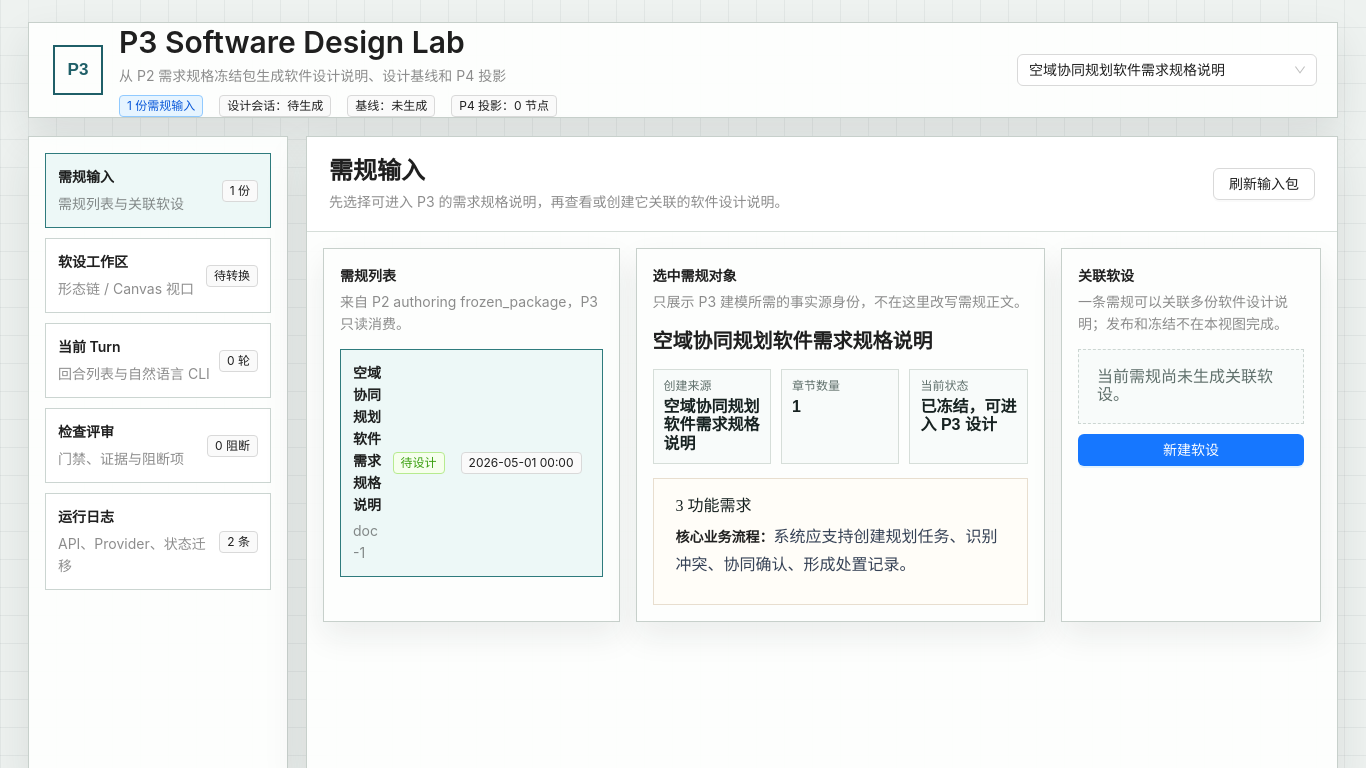
Test: renders structured software design subsections, tables, and diagrams from converter output
The image size is (1366, 768).
Expected: the heading "P3 Software Design Lab" is shown, [119,24,465,60]
Click the button "新建软设" at x=1191, y=450, box [1078,434,1304,466]
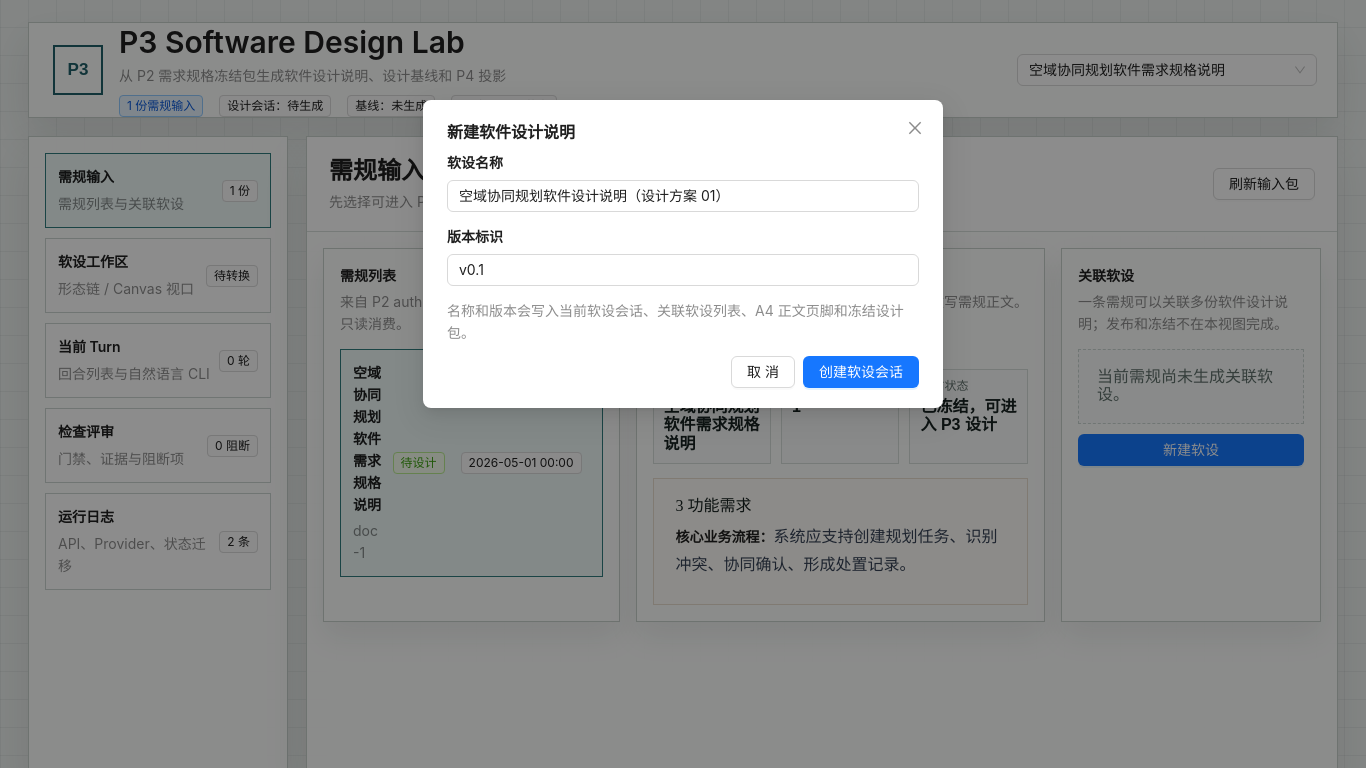
Click the button "创建软设会话" at x=861, y=372, box [803,356,919,388]
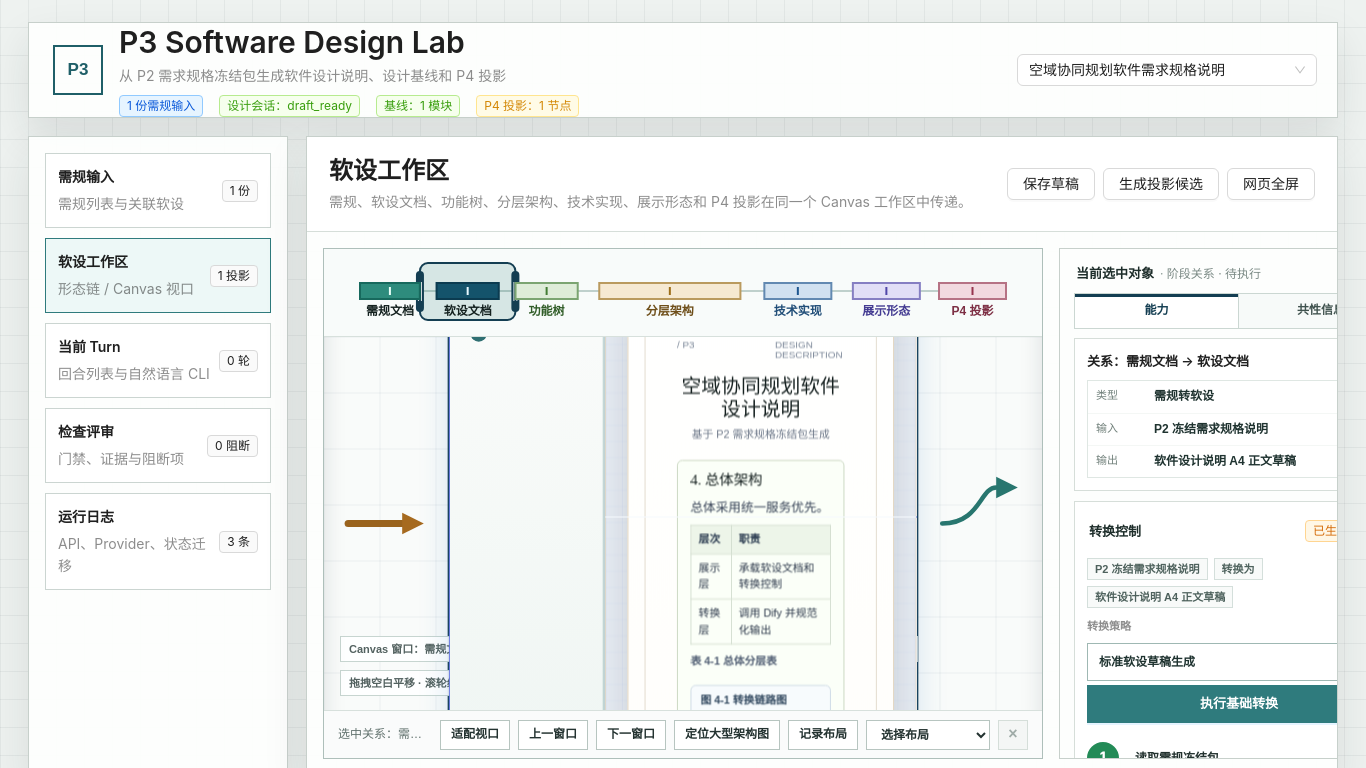
Now the table "表 4-1 总体分层表" is shown, box [690,525,831,678]
Now the text "转换层" is shown, box [691,599,731,644]
Now the text "图 4-1 转换链路图" is shown, box [700,694,786,706]
